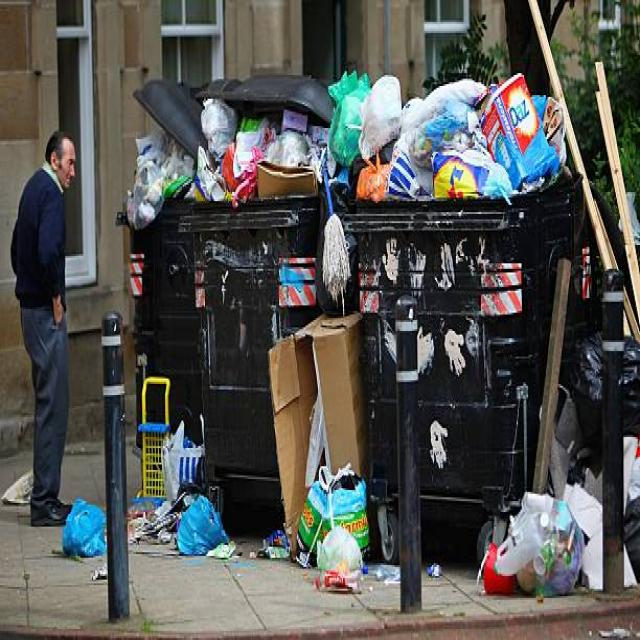cardboard: (264, 309, 356, 496)
trash: (106, 75, 610, 227), (128, 399, 200, 534), (490, 514, 613, 590)
